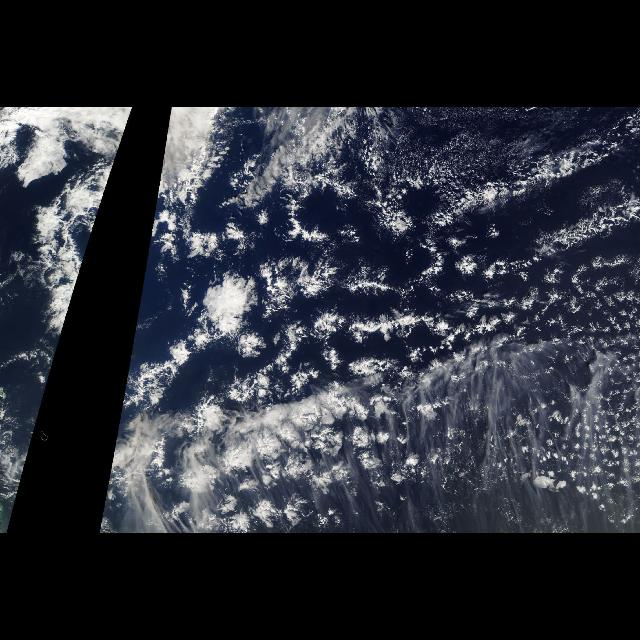Gravel: (457, 235, 635, 355)
